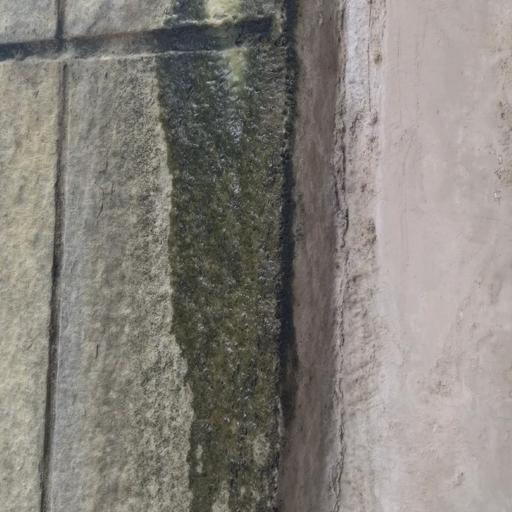algae: (130, 0, 409, 512)
